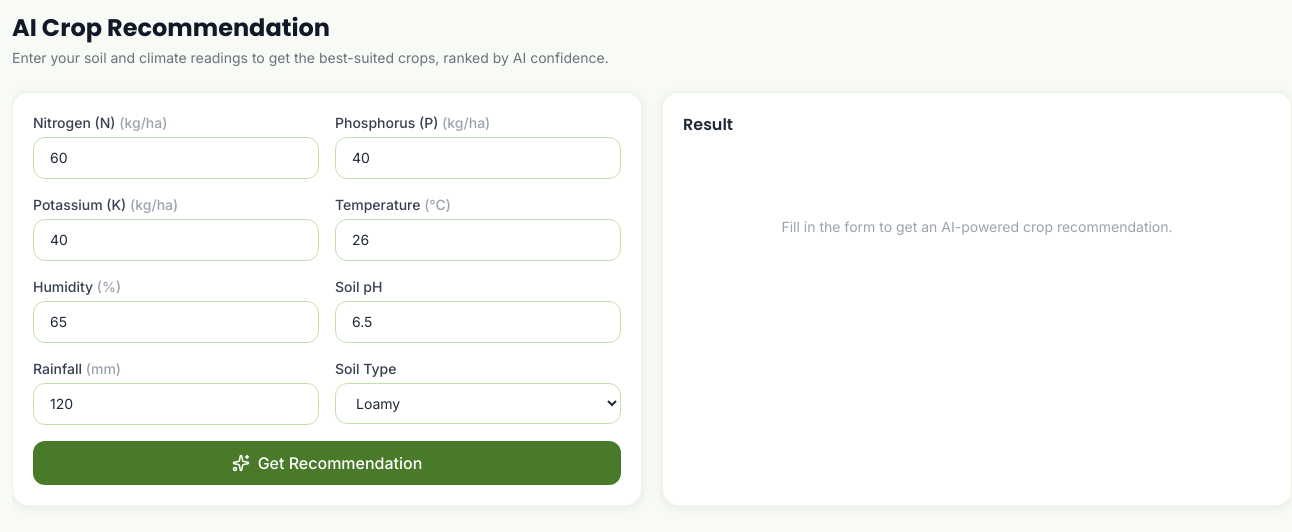
Test: CropRecommendation page › submits the form and displays the recommendation result
Click the button "Get Recommendation".
click(327, 463)  # box [33,441,621,485]
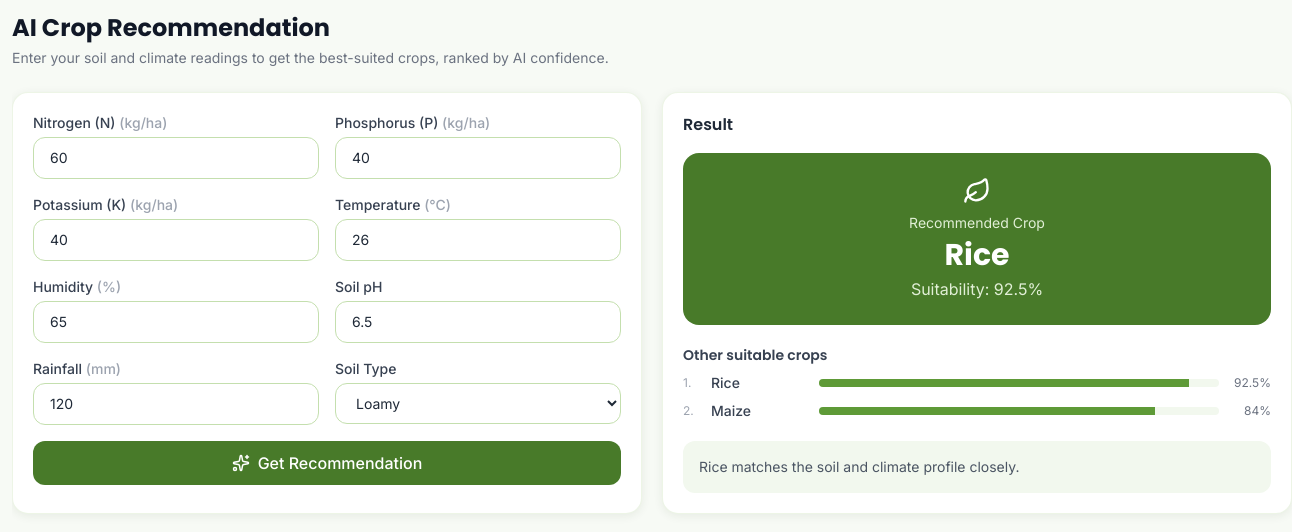
Expected: the text "Rice" below "Recommended Crop" is shown, [944,234,1010,276]
Expected: the text "Suitability: 92.5%" is shown, [911,279,1043,299]
Expected: the text "Rice matches the soil and climate profile closely." is shown, [699,458,1020,475]
